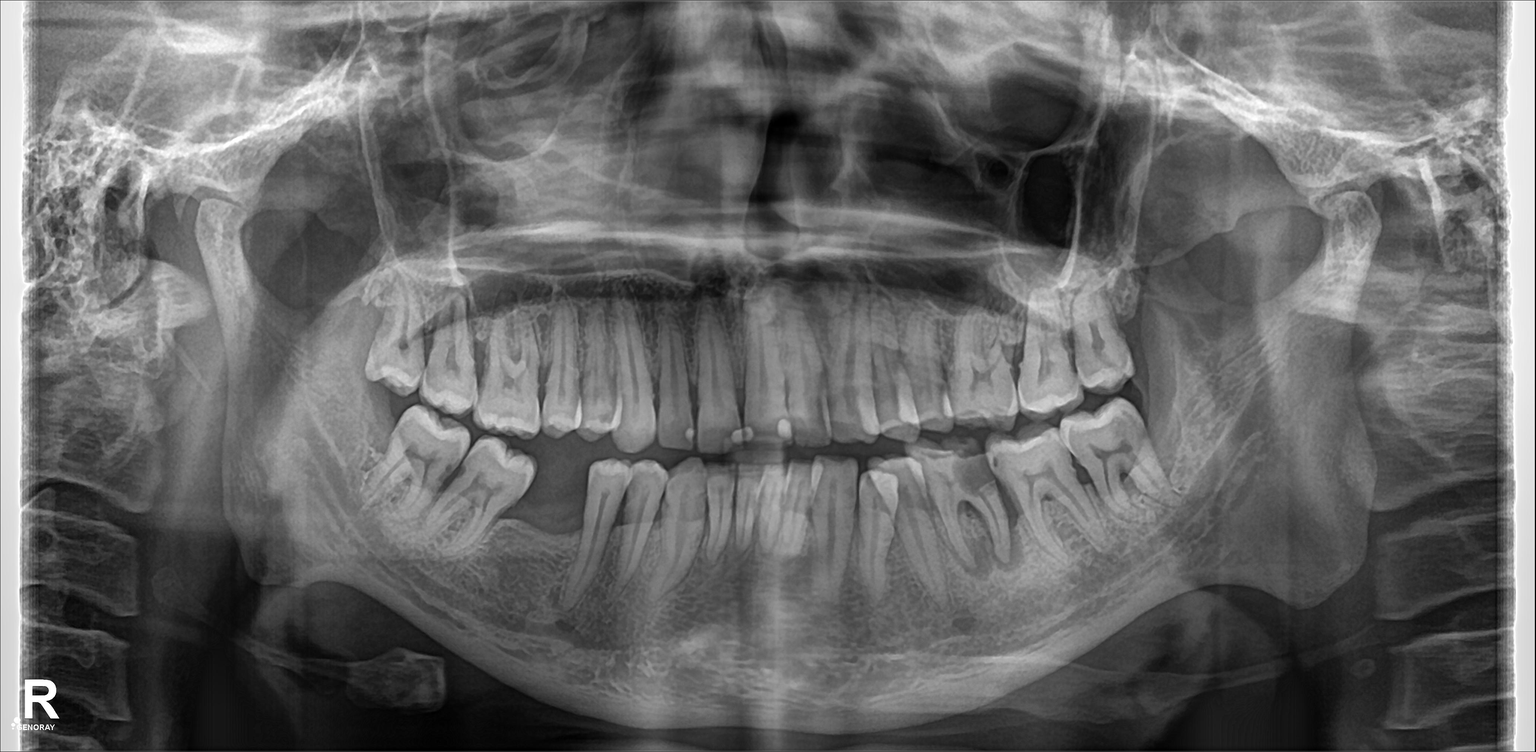Dental Caries: (949, 443, 1004, 498)
Missing Tooth: (534, 456, 583, 582)
Periapical Lesion: (939, 506, 1037, 588)
